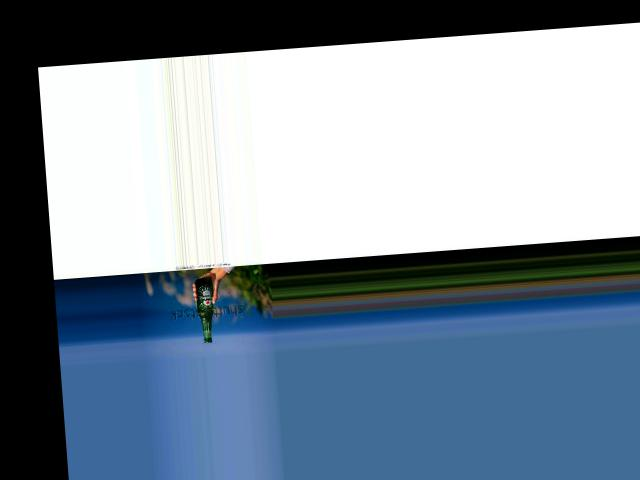beer: (195, 277, 216, 343)
